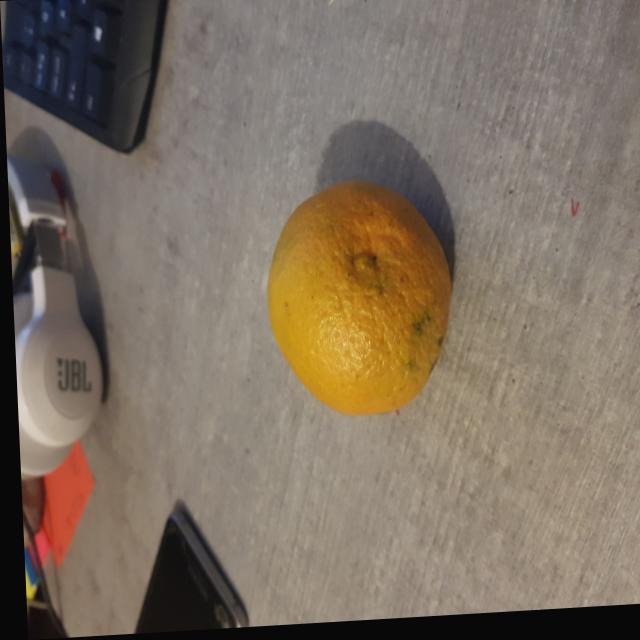Orange: (265, 183, 451, 421)
